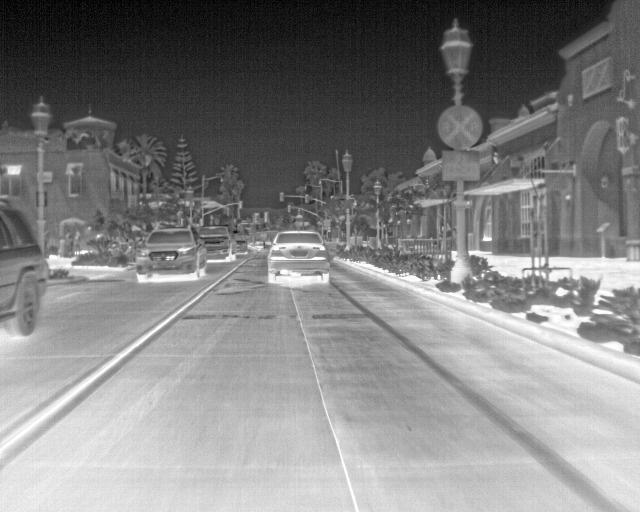bicycle: (0, 205, 48, 336), (134, 224, 209, 283), (264, 227, 334, 283), (200, 227, 234, 263), (229, 236, 247, 255)
